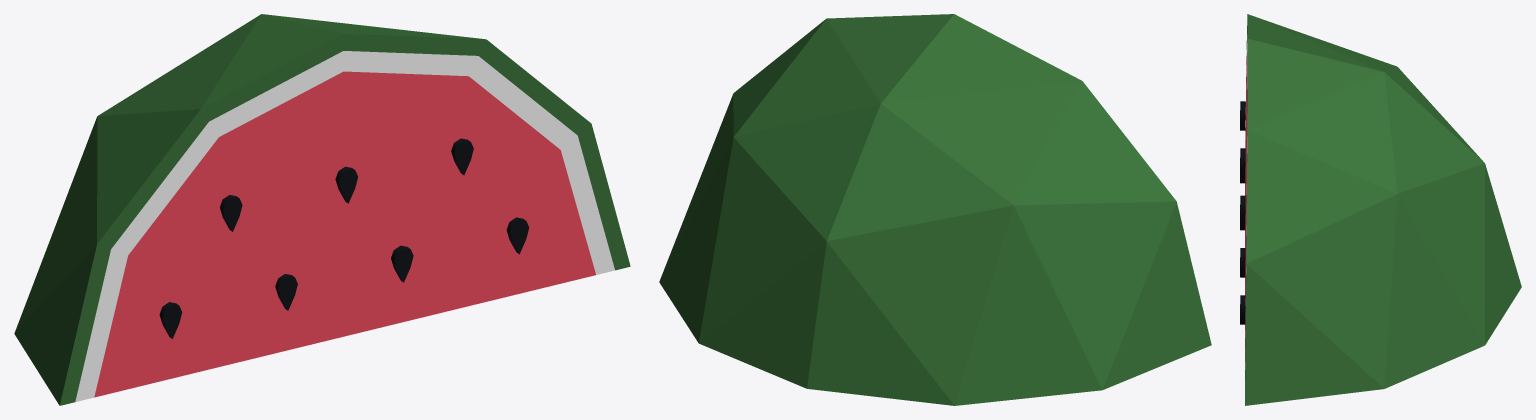
The model's file is watermelon.fbx.
The picture shows the model from 3 angles, left to right: view 1: azimuth 30°, elevation 25°; view 2: azimuth 150°, elevation 25°; view 3: azimuth 270°, elevation 25°; orthographic projection. The views are drawn at different scales.
Parts seen in each view (by area): view 1: watermelon; view 2: watermelon; view 3: watermelon.
Boxes of the visible parts, x1=… form: watermelon: x1=14, y1=14, x2=630, y2=405; watermelon: x1=659, y1=14, x2=1211, y2=405; watermelon: x1=1240, y1=14, x2=1521, y2=405.
Size of the model in its own units: 331 by 169 by 169.
Materials: 1 (1 with a texture image).
